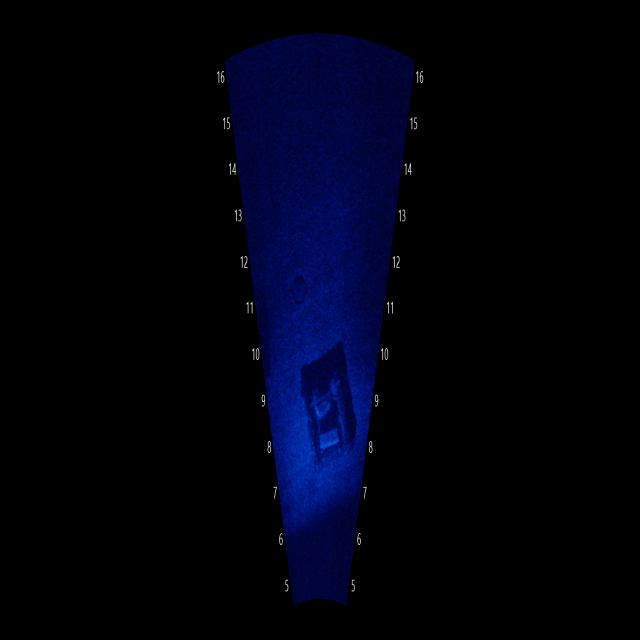square: (289, 307, 361, 478)
